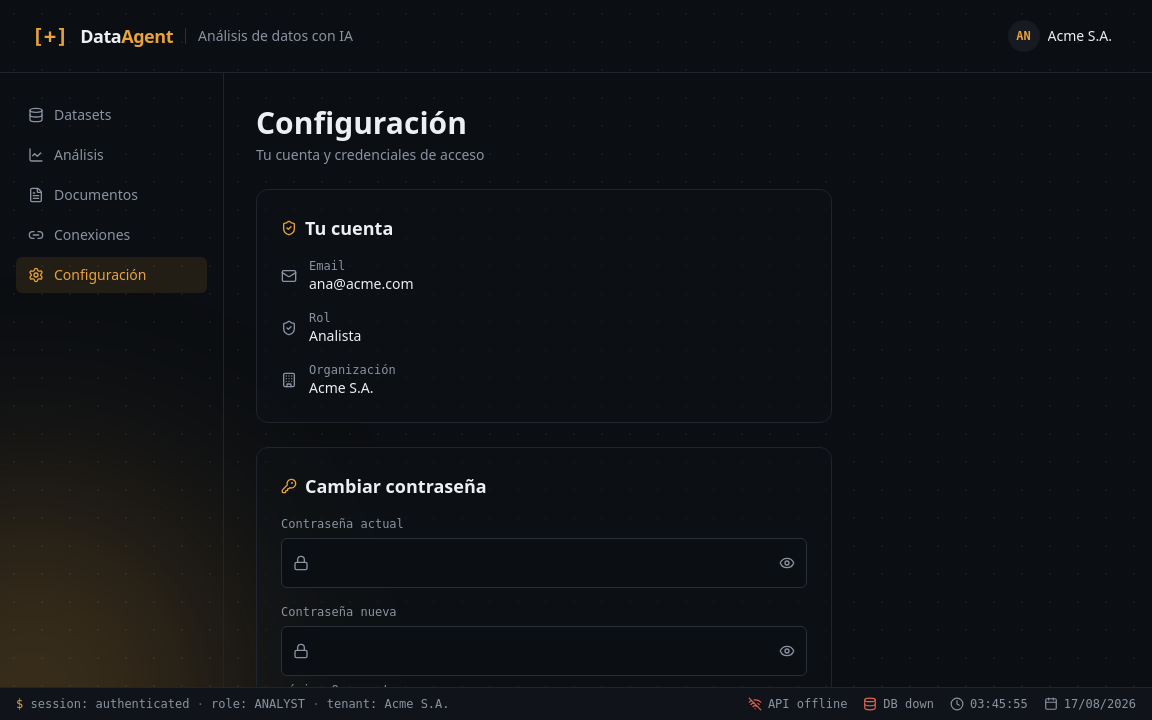
Test: SettingsPage › shows a confirmation message when the password change succeeds
Check: the text "ana@acme.com" is shown, box [309, 274, 414, 294]
Type "oldpassword123" into the password field labelled "Contraseña actual". click: (544, 563)
box: [281, 538, 807, 588]
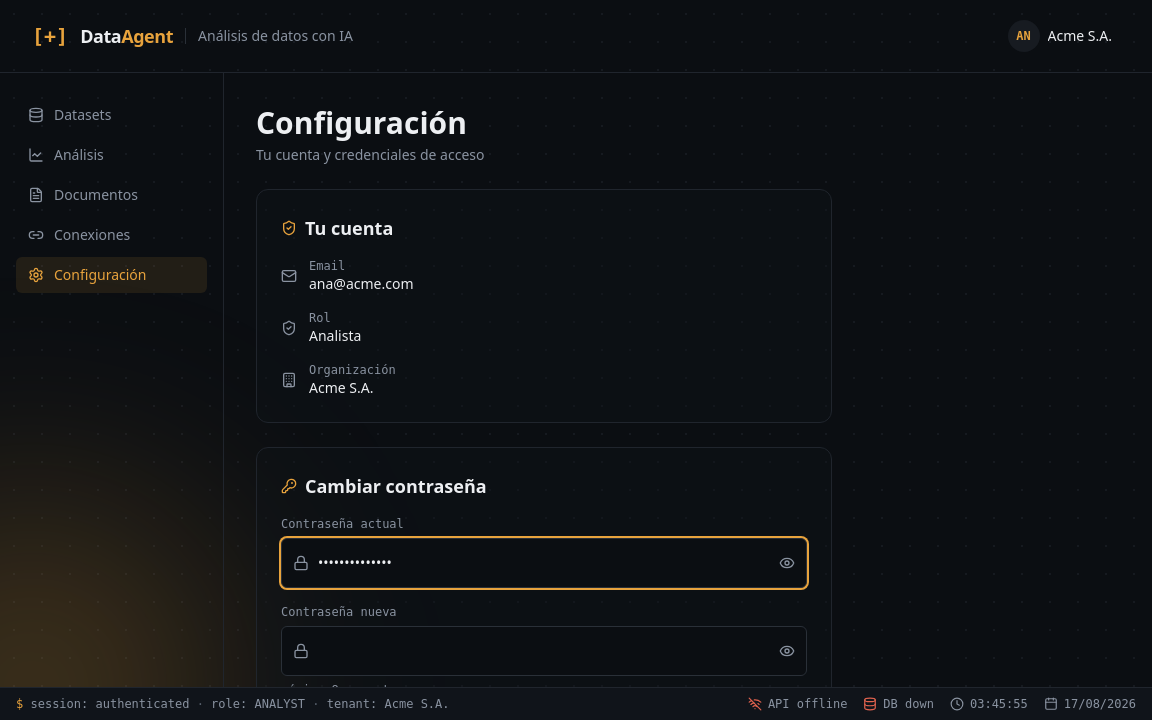
Type "newpassword123" into the password field labelled "Contraseña nueva". click: (544, 651)
box: [281, 626, 807, 676]
(page scrolled)
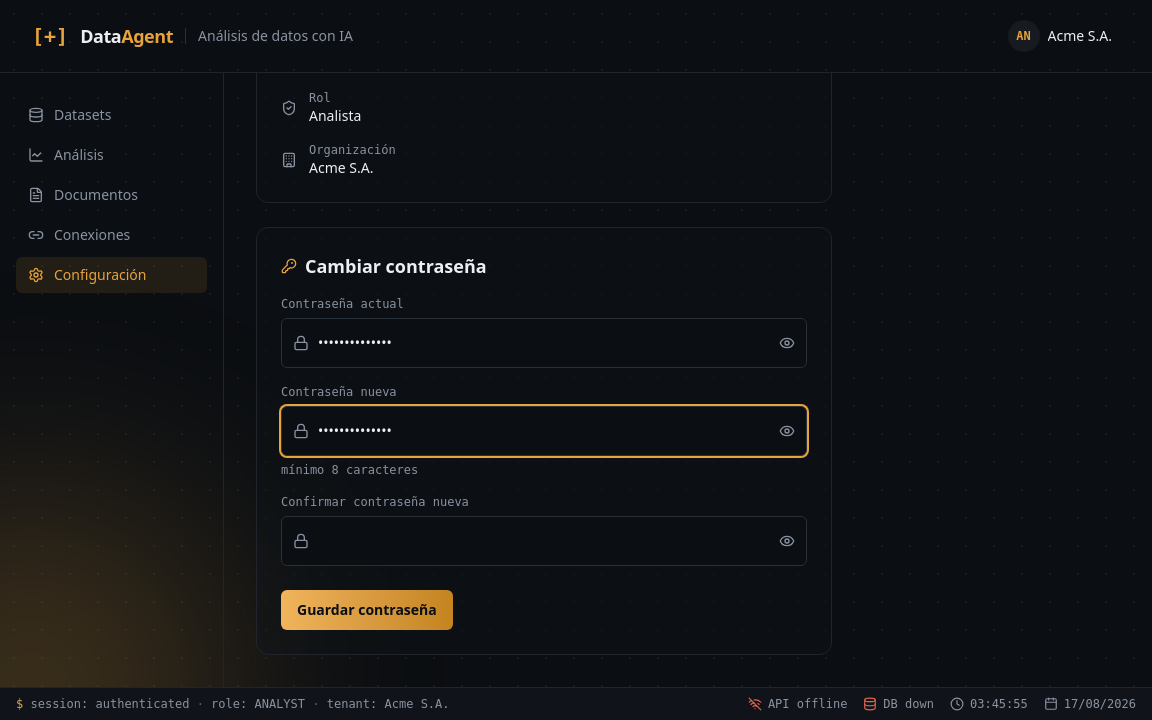
Type "newpassword123" into the password field labelled "Confirmar contraseña nueva". click: (544, 541)
box: [281, 516, 807, 566]
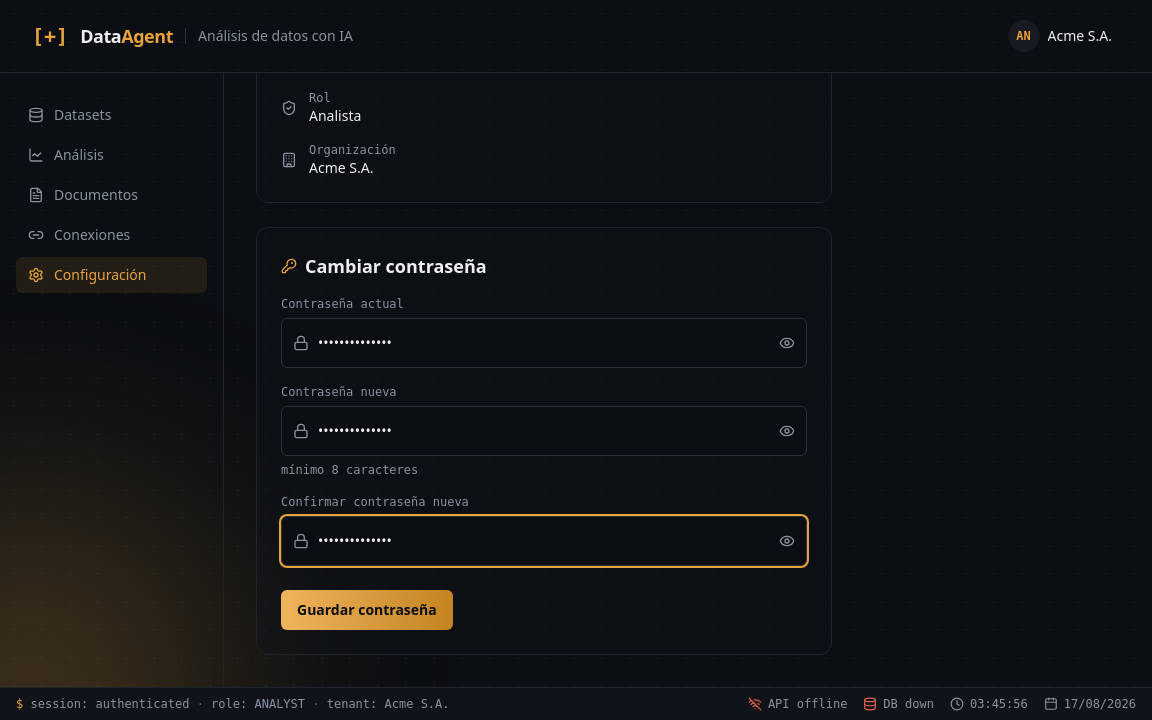
Click the button "Guardar contraseña". click: (367, 610)
box: [281, 590, 453, 630]
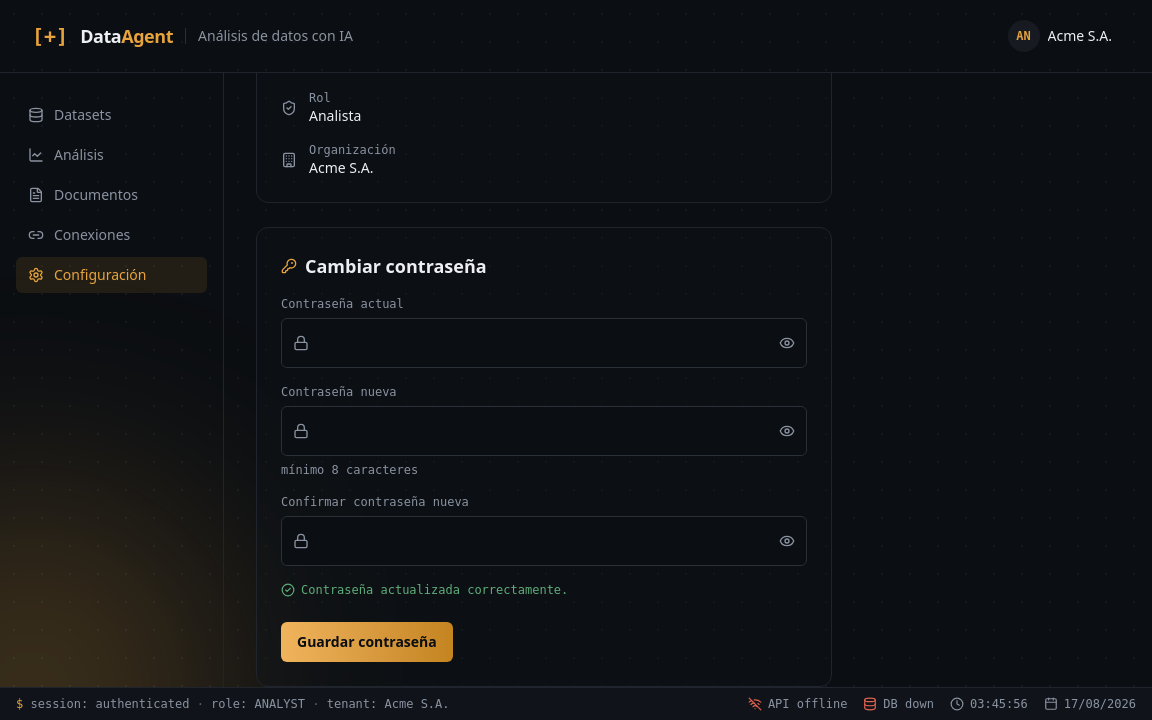
Check: the text "Contraseña actualizada correctamente." is shown, box [281, 583, 568, 597]
